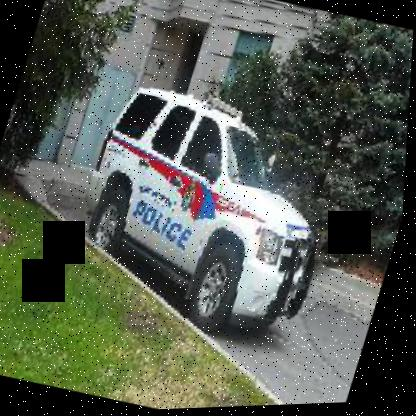emergency: (35, 57, 365, 355)
